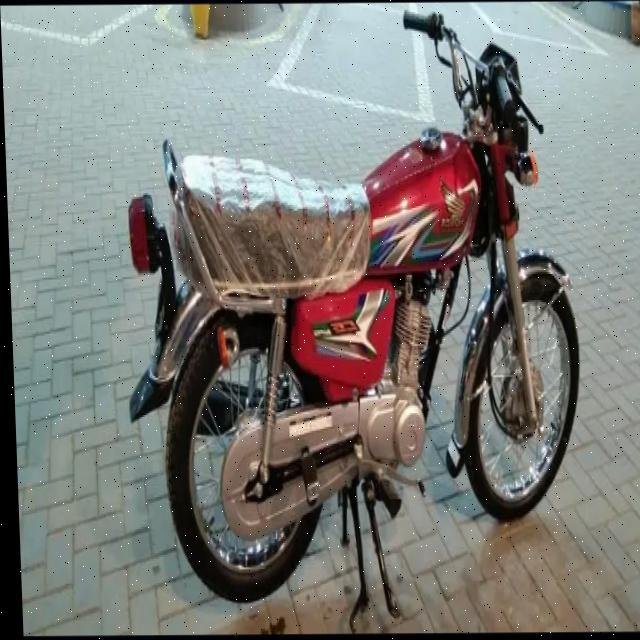Bike: (131, 70, 572, 613)
